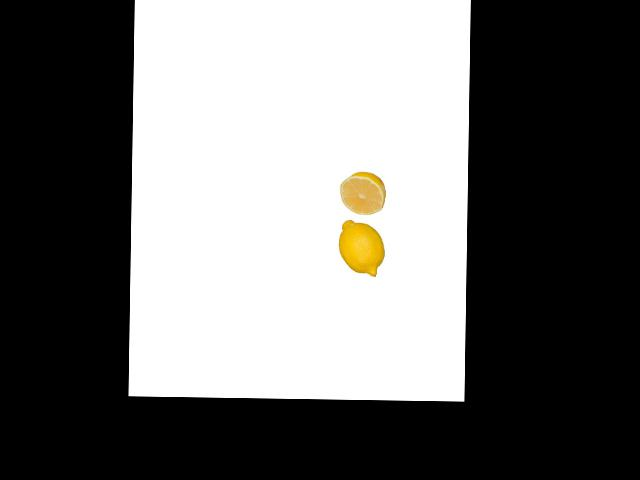lemon: (337, 219, 385, 275)
